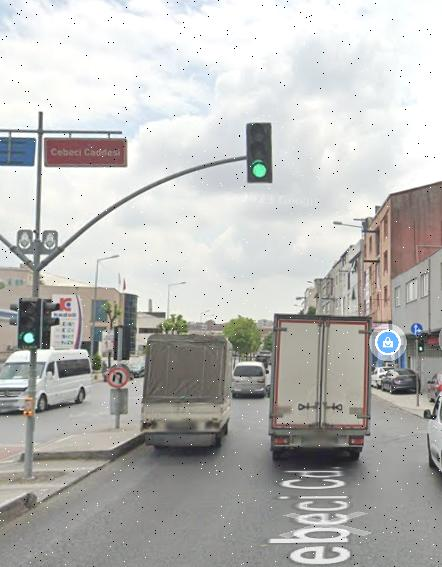greenlight: (247, 122, 270, 181), (19, 297, 42, 345)
